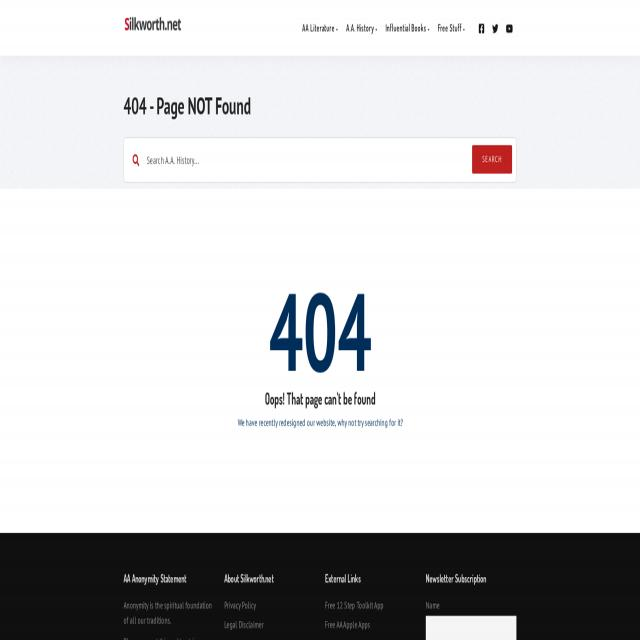button: (377, 0, 430, 56), (294, 0, 338, 56), (338, 0, 378, 56), (429, 0, 465, 56), (124, 12, 182, 37), (472, 144, 512, 173), (131, 149, 142, 172), (504, 22, 514, 36), (491, 21, 499, 36), (478, 22, 485, 36)
field: (125, 138, 516, 184), (426, 615, 516, 640)
